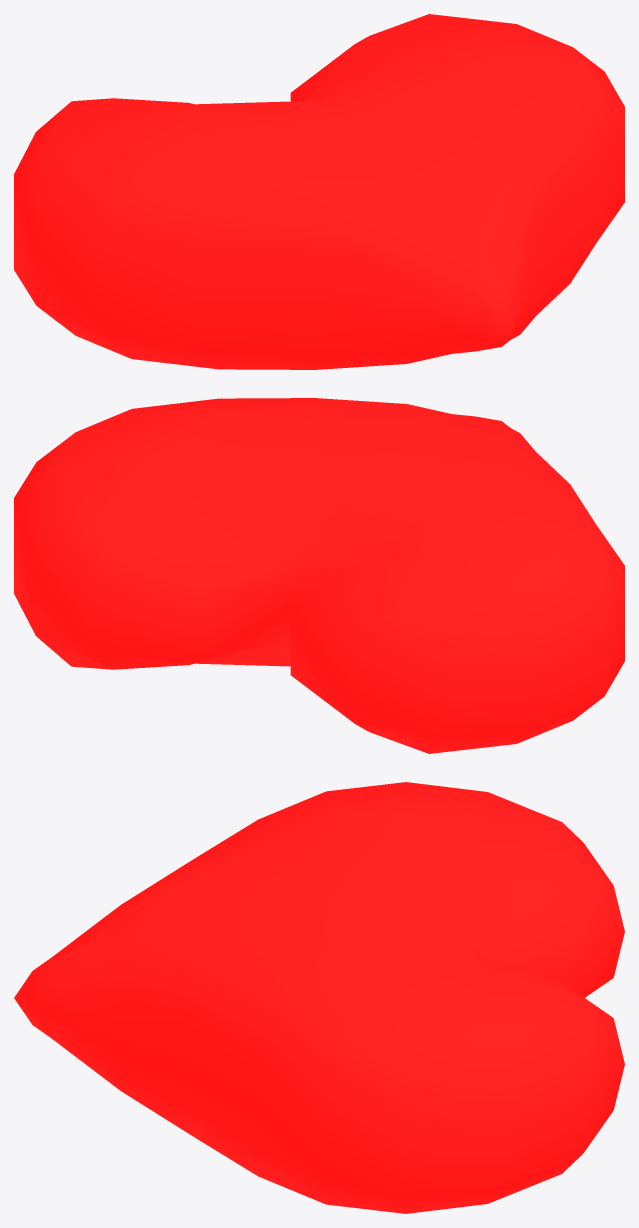
The model's file is heart.fbx.
3 renders of one model, top to bottom at view 1: azimuth 30°, elevation 25°; view 2: azimuth 150°, elevation 25°; view 3: azimuth 270°, elevation 25°, orthographic. The views are drawn at different scales.
Visible parts, largest first — view 1: Heart; view 2: Heart; view 3: Heart.
Boxes of the visible parts, left/top/right/bottom form: Heart: left=14, top=14, right=624, bottom=369; Heart: left=14, top=398, right=624, bottom=753; Heart: left=14, top=782, right=624, bottom=1213.
Bounding box in the file's own units: 622 × 211 × 550.
